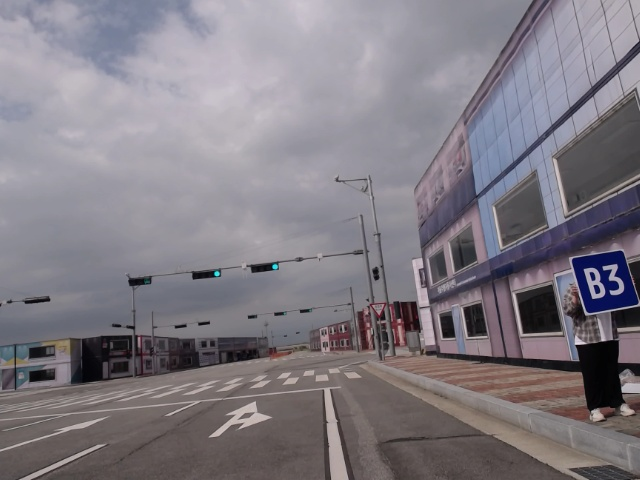delivery_b3: (568, 251, 639, 315)
straight_green_4: (249, 261, 282, 275), (191, 268, 222, 279), (273, 310, 289, 318), (299, 308, 315, 315)
